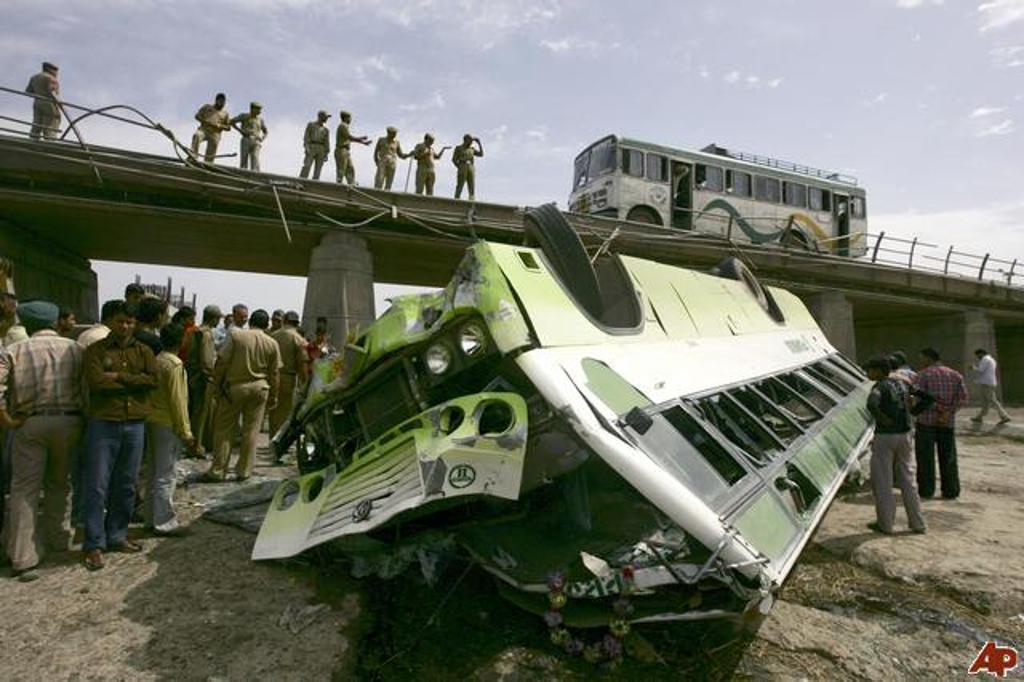face: (115, 315, 135, 337), (130, 294, 143, 309), (63, 315, 75, 331), (7, 300, 16, 320), (156, 310, 166, 326), (867, 369, 880, 380), (238, 313, 248, 327), (272, 317, 282, 329), (185, 316, 194, 328), (318, 321, 326, 333), (920, 355, 929, 365), (214, 316, 221, 328), (978, 353, 982, 359)
